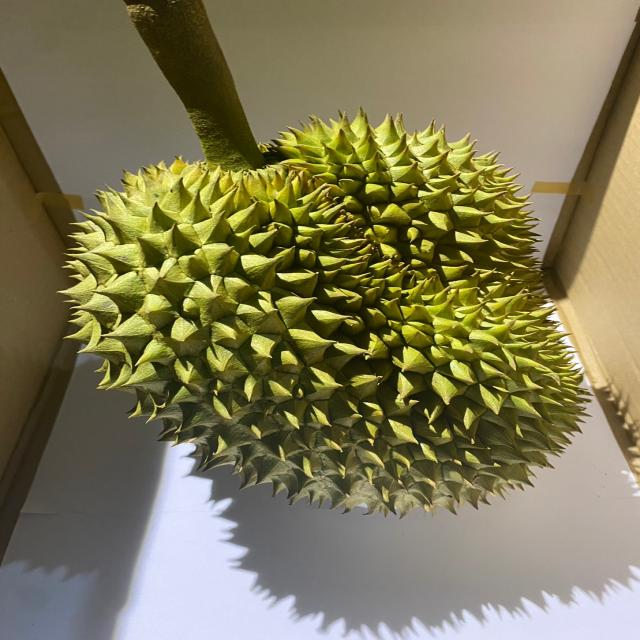immature: (56, 107, 594, 516)
